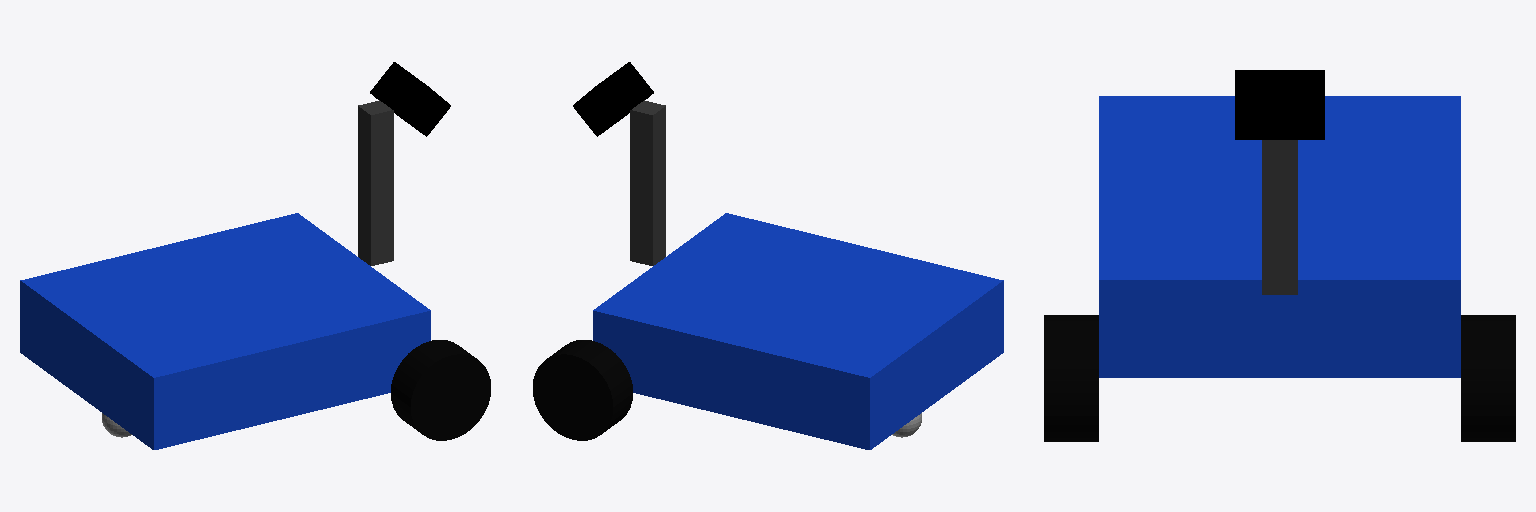
The robot description file, URDF, robot "diffdrive_bot":
<?xml version='1.0' encoding='utf-8'?>
<robot name="diffdrive_bot">
  <link name="base_link">
    <visual>
      <origin xyz="-0.12 0 0.03" rpy="0 0 0" />
      <geometry>
        <box size="0.24 0.2 0.06" />
      </geometry>
      <material name="body_material">
        <color rgba="0.1 0.3 0.8 1.0" />
      </material>
    </visual>
    <collision>
      <origin xyz="-0.12 0 0.03" rpy="0 0 0" />
      <geometry>
        <box size="0.24 0.2 0.06" />
      </geometry>
    </collision>
    <inertial>
      <mass value="1.5" />
      <origin xyz="-0.12 0 0.03" rpy="0 0 0" />
      <inertia ixx="0.00545" ixy="0.0" ixz="0.0" iyy="0.00765" iyz="0.0" izz="0.0122" />
    </inertial>
  </link>
  <link name="left_wheel_link">
    <visual>
      <origin xyz="0 0 0" rpy="1.570795 0 0" />
      <geometry>
        <cylinder radius="0.035" length="0.03" />
      </geometry>
      <material name="wheel_material">
        <color rgba="0.05 0.05 0.05 1.0" />
      </material>
    </visual>
    <collision>
      <origin xyz="0 0 0" rpy="1.570795 0 0" />
      <geometry>
        <cylinder radius="0.035" length="0.03" />
      </geometry>
    </collision>
    <inertial>
      <mass value="0.15" />
      <origin xyz="0 0 0" rpy="1.570795 0 0" />
      <inertia ixx="5.71875e-05" ixy="0.0" ixz="0.0" iyy="5.71875e-05" iyz="0.0" izz="9.1875e-05" />
    </inertial>
  </link>
  <link name="right_wheel_link">
    <visual>
      <origin xyz="0 0 0" rpy="1.570795 0 0" />
      <geometry>
        <cylinder radius="0.035" length="0.03" />
      </geometry>
      <material name="wheel_material">
        <color rgba="0.05 0.05 0.05 1.0" />
      </material>
    </visual>
    <collision>
      <origin xyz="0 0 0" rpy="1.570795 0 0" />
      <geometry>
        <cylinder radius="0.035" length="0.03" />
      </geometry>
    </collision>
    <inertial>
      <mass value="0.15" />
      <origin xyz="0 0 0" rpy="1.570795 0 0" />
      <inertia ixx="5.71875e-05" ixy="0.0" ixz="0.0" iyy="5.71875e-05" iyz="0.0" izz="9.1875e-05" />
    </inertial>
  </link>
  <link name="rear_caster_link">
    <visual>
      <origin xyz="0 0 0" rpy="0 0 0" />
      <geometry>
        <sphere radius="0.015" />
      </geometry>
      <material name="caster_material">
        <color rgba="0.6 0.6 0.6 1.0" />
      </material>
    </visual>
    <collision>
      <origin xyz="0 0 0" rpy="0 0 0" />
      <geometry>
        <sphere radius="0.015" />
      </geometry>
    </collision>
    <inertial>
      <mass value="0.02" />
      <origin xyz="0 0 0" rpy="0 0 0" />
      <inertia ixx="1.8e-06" ixy="0.0" ixz="0.0" iyy="1.8e-06" iyz="0.0" izz="1.8e-06" />
    </inertial>
  </link>
  <link name="camera_mast_link">
    <visual>
      <origin xyz="0 0 0" rpy="0 0 0" />
      <geometry>
        <box size="0.02 0.02 0.125" />
      </geometry>
      <material name="mast_material">
        <color rgba="0.25 0.25 0.25 1.0" />
      </material>
    </visual>
    <inertial>
      <mass value="1e-3" />
      <origin xyz="0 0 0" rpy="0 0 0" />
      <inertia ixx="1e-6" ixy="0" ixz="0" iyy="1e-6" iyz="0" izz="1e-6" />
    </inertial>
  </link>
  <link name="camera_link">
    <visual>
      <origin xyz="0 0 0" rpy="0 0 0" />
      <geometry>
        <box size="0.03 0.05 0.03" />
      </geometry>
      <material name="camera_material">
        <color rgba="0.0 0.0 0.0 1.0" />
      </material>
    </visual>
    <inertial>
      <mass value="1e-3" />
      <origin xyz="0 0 0" rpy="0 0 0" />
      <inertia ixx="1e-6" ixy="0" ixz="0" iyy="1e-6" iyz="0" izz="1e-6" />
    </inertial>
  </link>
  <joint name="left_wheel_joint" type="continuous">
    <origin xyz="0 0.115 0" rpy="0 0 0" />
    <parent link="base_link" />
    <child link="left_wheel_link" />
    <axis xyz="0 1 0" />
    <dynamics damping="0.01" friction="0.0" />
  </joint>
  <joint name="right_wheel_joint" type="continuous">
    <origin xyz="0 -0.115 0" rpy="0 0 0" />
    <parent link="base_link" />
    <child link="right_wheel_link" />
    <axis xyz="0 1 0" />
    <dynamics damping="0.01" friction="0.0" />
  </joint>
  <joint name="rear_caster_joint" type="fixed">
    <origin xyz="-0.21 0 -0.02" rpy="0 0 0" />
    <parent link="base_link" />
    <child link="rear_caster_link" />
  </joint>
  <joint name="camera_mast_joint" type="fixed">
    <origin xyz="0.01 0 0.1225" rpy="0 0 0" />
    <parent link="base_link" />
    <child link="camera_mast_link" />
  </joint>
  <joint name="camera_joint" type="fixed">
    <origin xyz="0.04 0 0.185" rpy="0 0.8 0" />
    <parent link="base_link" />
    <child link="camera_link" />
  </joint>
  <gazebo reference="left_wheel_link">
    <mu1>1.0</mu1>
    <mu2>1.0</mu2>
  </gazebo>
  <gazebo reference="right_wheel_link">
    <mu1>1.0</mu1>
    <mu2>1.0</mu2>
  </gazebo>
  <gazebo reference="rear_caster_link">
    <mu1>0.0</mu1>
    <mu2>0.0</mu2>
  </gazebo>
  <gazebo>
    <plugin filename="gz-sim-diff-drive-system" name="gz::sim::systems::DiffDrive">
      <left_joint>left_wheel_joint</left_joint>
      <right_joint>right_wheel_joint</right_joint>
      <wheel_separation>0.23</wheel_separation>
      <wheel_radius>0.035</wheel_radius>
      <odom_publish_frequency>30</odom_publish_frequency>
      <max_linear_velocity>0.6</max_linear_velocity>
      <min_linear_velocity>-0.6</min_linear_velocity>
      <max_angular_velocity>3</max_angular_velocity>
      <min_angular_velocity>-3</min_angular_velocity>
      <max_linear_acceleration>2.0</max_linear_acceleration>
      <min_linear_acceleration>-2.0</min_linear_acceleration>
      <max_angular_acceleration>8.0</max_angular_acceleration>
      <min_angular_acceleration>-8.0</min_angular_acceleration>
      <topic>cmd_vel</topic>
      <odom_topic>odom</odom_topic>
      <frame_id>odom</frame_id>
      <child_frame_id>base_link</child_frame_id>
    </plugin>
    <plugin filename="gz-sim-joint-state-publisher-system" name="gz::sim::systems::JointStatePublisher">
      <topic>joint_states</topic>
      <joint_name>left_wheel_joint</joint_name>
      <joint_name>right_wheel_joint</joint_name>
    </plugin>
  </gazebo>
  <gazebo reference="camera_link">
    <sensor type="camera" name="front_camera">
      <update_rate>20</update_rate>
      <visualize>false</visualize>
      <topic>camera/image_raw</topic>
      <camera name="front">
        <horizontal_fov>1.8</horizontal_fov>
        <image>
          <width>256</width>
          <height>192</height>
          <format>R8G8B8</format>
        </image>
        <clip>
          <near>0.02</near>
          <far>50</far>
        </clip>
        <noise>
          <type>gaussian</type>
          <mean>0.0</mean>
          <stddev>0.007</stddev>
        </noise>
      </camera>
    </sensor>
  </gazebo>
</robot>

--- Render facts (derived) ---
The picture shows the robot from 3 angles, left to right: view 1: azimuth 30°, elevation 25°; view 2: azimuth 150°, elevation 25°; view 3: azimuth 270°, elevation 25°; orthographic projection.
Model diffdrive_bot with 6 links and 5 joints (2 continuous, 3 fixed), rooted at base_link, posed all joints at 0.
Visible links, largest first — view 1: base_link, right_wheel_link, camera_mast_link, camera_link; view 2: base_link, left_wheel_link, camera_mast_link, camera_link; view 3: base_link, left_wheel_link, right_wheel_link, camera_link, camera_mast_link.
Boxes of the visible links, <box> form: base_link: <box>20,213,430,449</box>; right_wheel_link: <box>391,340,490,440</box>; camera_mast_link: <box>358,100,393,265</box>; camera_link: <box>370,62,450,136</box>; base_link: <box>593,213,1003,449</box>; left_wheel_link: <box>533,340,632,440</box>; camera_mast_link: <box>630,100,665,265</box>; camera_link: <box>573,62,653,136</box>; base_link: <box>1099,96,1460,377</box>; left_wheel_link: <box>1461,315,1515,441</box>; right_wheel_link: <box>1044,315,1098,441</box>; camera_link: <box>1235,70,1324,139</box>; camera_mast_link: <box>1262,140,1297,294</box>.
Bounding box of the posed robot: 0.3012 × 0.26 × 0.2412 m (x, y, z).
Geometry: primitives only (box / cylinder / sphere), no mesh files.
